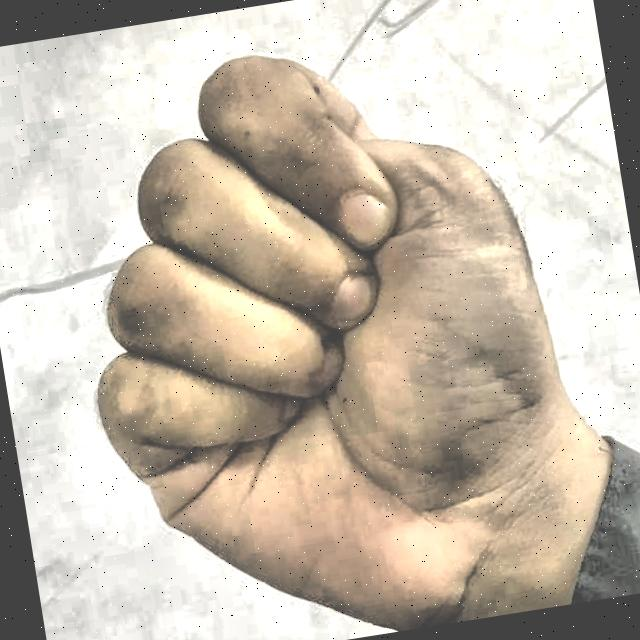To: (20, 0, 628, 640)
